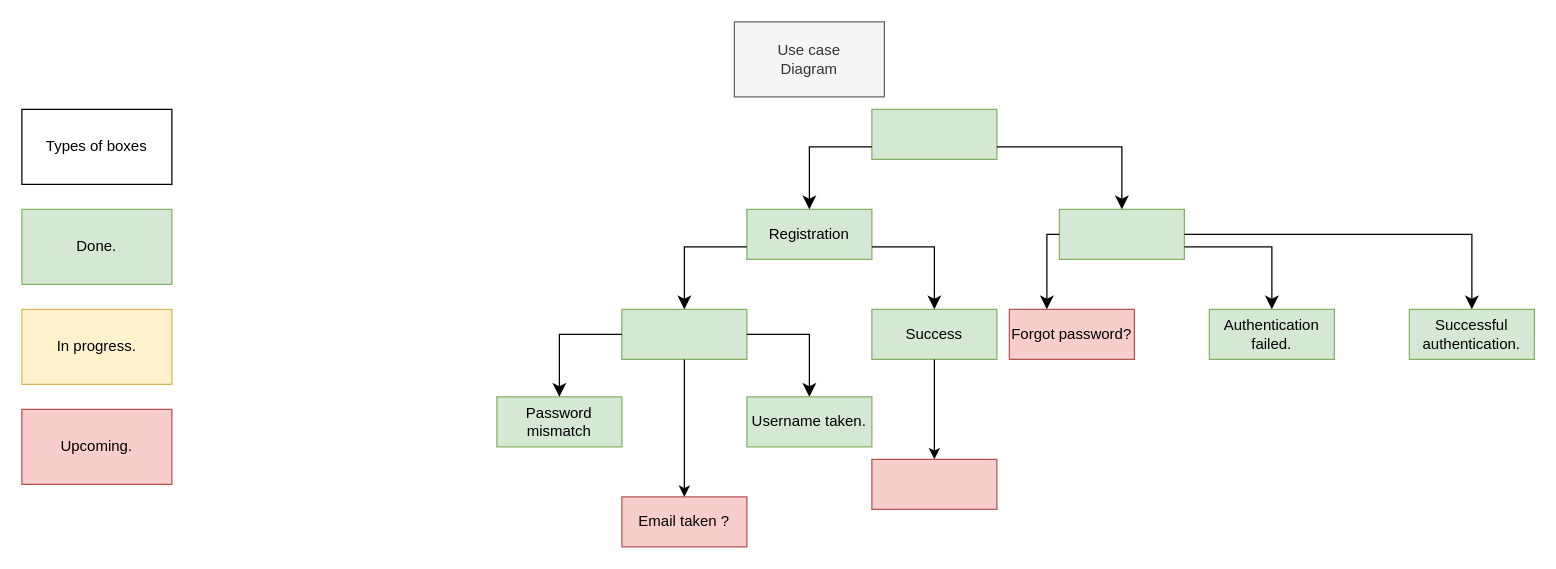
Some shapes in this 1556 by 569 pixel diagram are drawn without their labels. Each missing label, with the box of its shape:
Email confirmation.: (871, 458, 997, 509)
Login: (1058, 208, 1184, 259)
Retry: (621, 308, 747, 359)
User: (871, 108, 997, 159)
